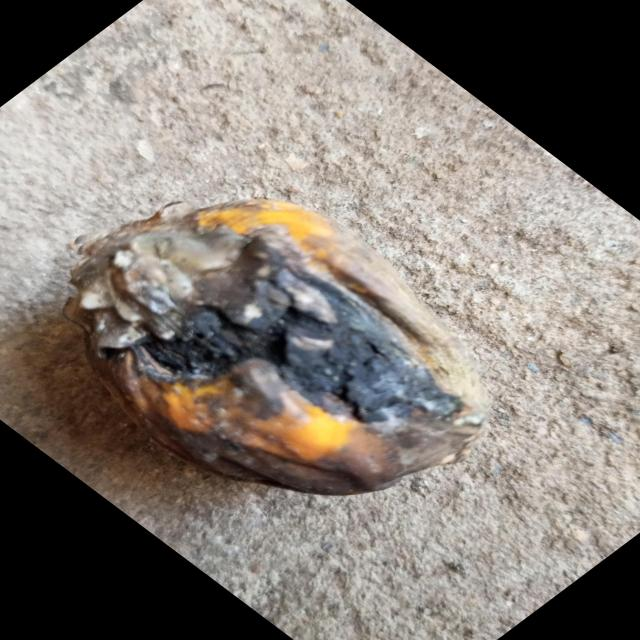damaged: (64, 200, 488, 495)
